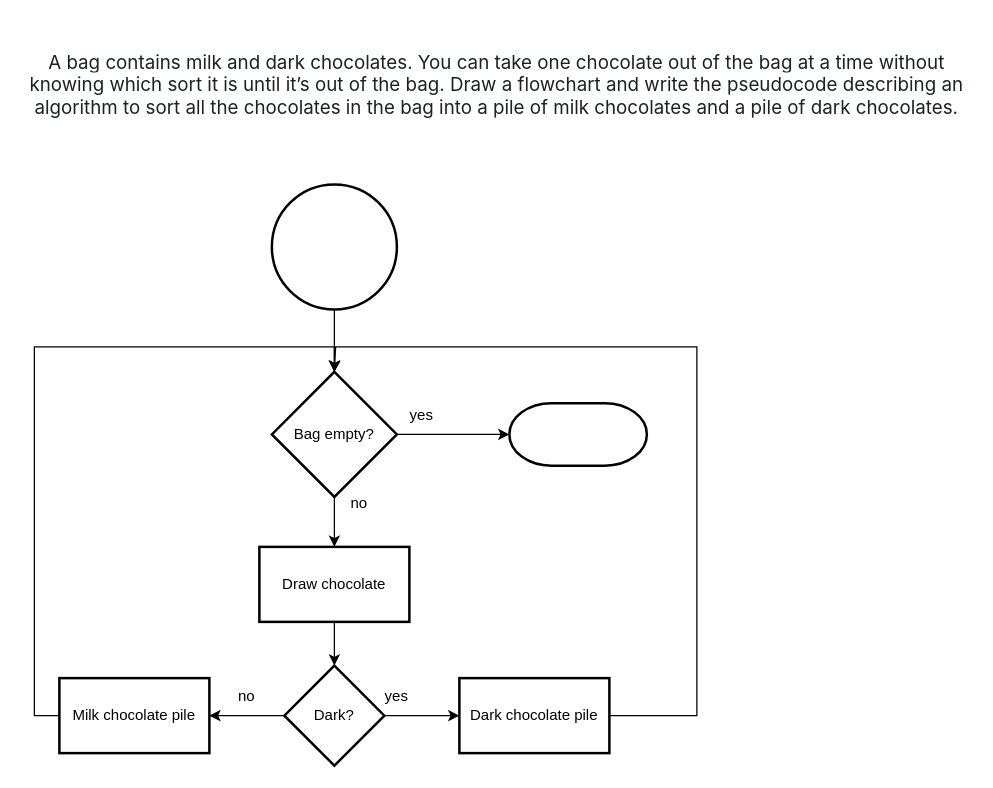
Some shapes in this 993 by 788 pixel diagram are drawn without their labels. The shapes that lost their labels are listed below. From the top down, each one's centre as x and y in pixels, then its label:
At point 334,246: "Start".
At point 578,433: "end".
